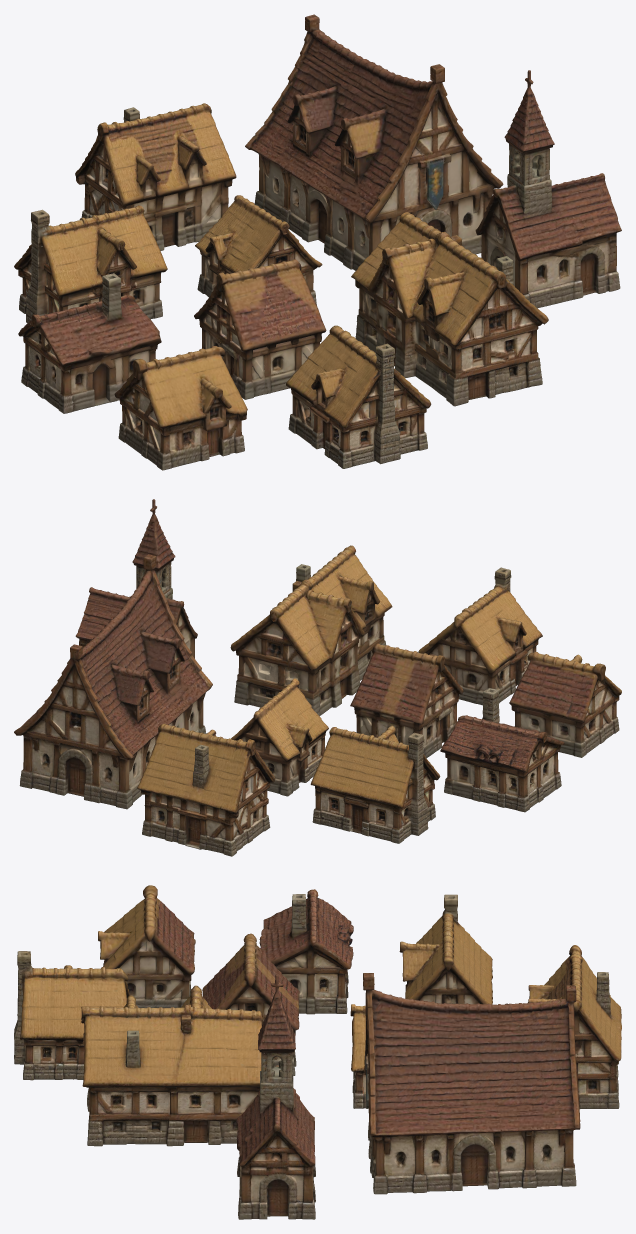
File: Medieval Village (Western).fbx
3 renders of one model, top to bottom at view 1: azimuth 30°, elevation 25°; view 2: azimuth 150°, elevation 25°; view 3: azimuth 270°, elevation 25°, orthographic. The views are drawn at different scales.
Parts seen in each view (by area): view 1: tripo_node_e0528187; view 2: tripo_node_e0528187; view 3: tripo_node_e0528187.
Part boxes in pixels (box(x1,y1,x2,y2)): tripo_node_e0528187: box(14, 14, 621, 470); tripo_node_e0528187: box(14, 499, 621, 856); tripo_node_e0528187: box(14, 885, 621, 1219).
Size of the model in its own units: 1 by 0.3901 by 0.9987.
